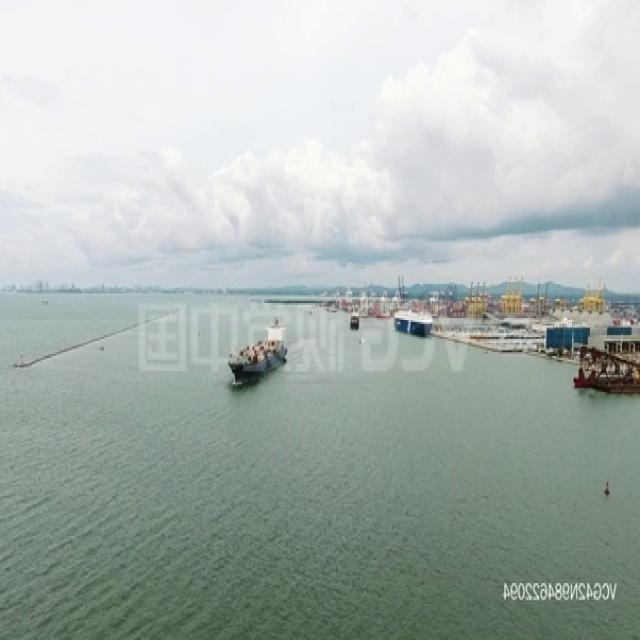cargoship: (229, 316, 291, 380)
